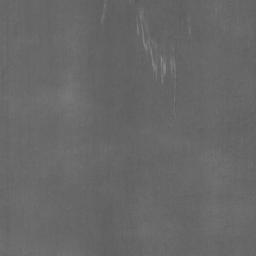Silk spot: (146, 50, 163, 80), (164, 51, 171, 85)
